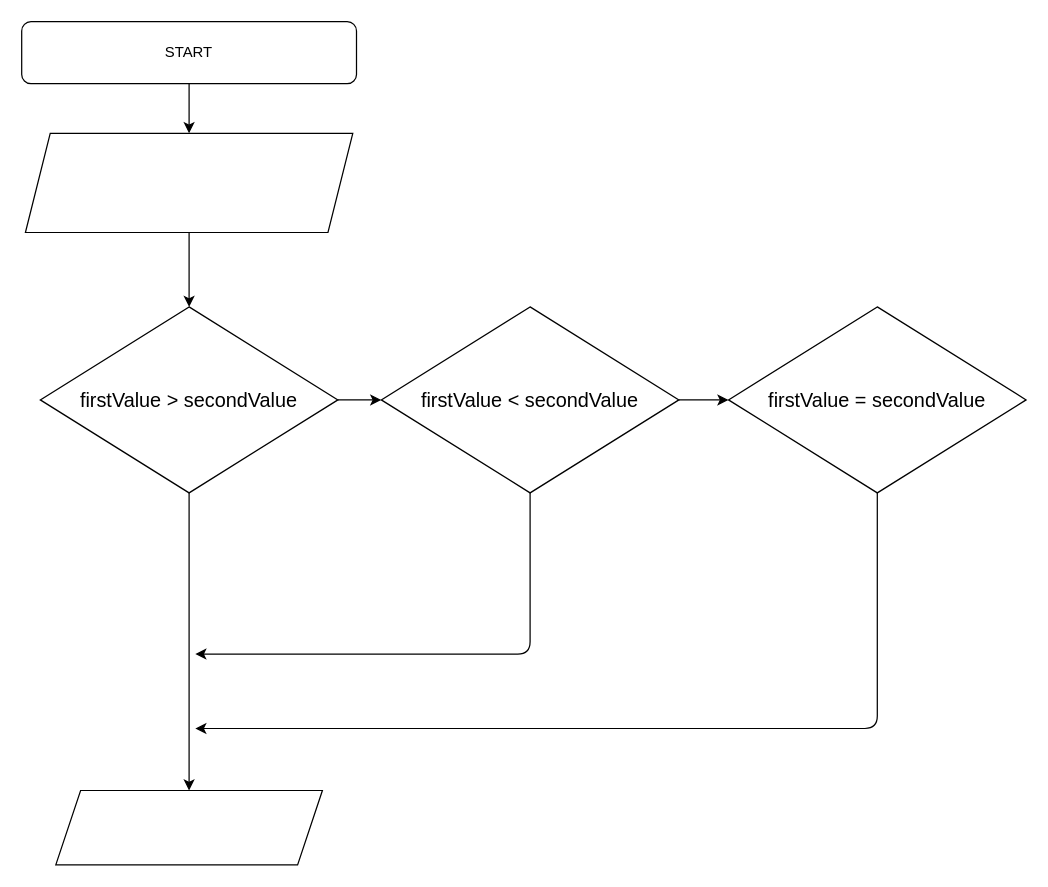
The diagram is 1048 pixels wide and 887 high, and some of its shapes have lost their labels. Here are the shapes that lost their labels. From the top down, the centre of each, then its label:
At point (188, 182): "GET firstValue secondValue".
At point (188, 827): "ВЫВОД".
